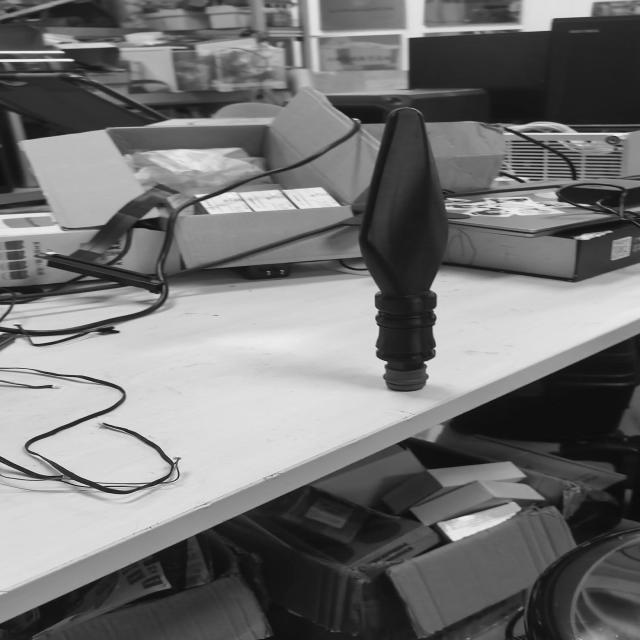base: (376, 363, 436, 396)
